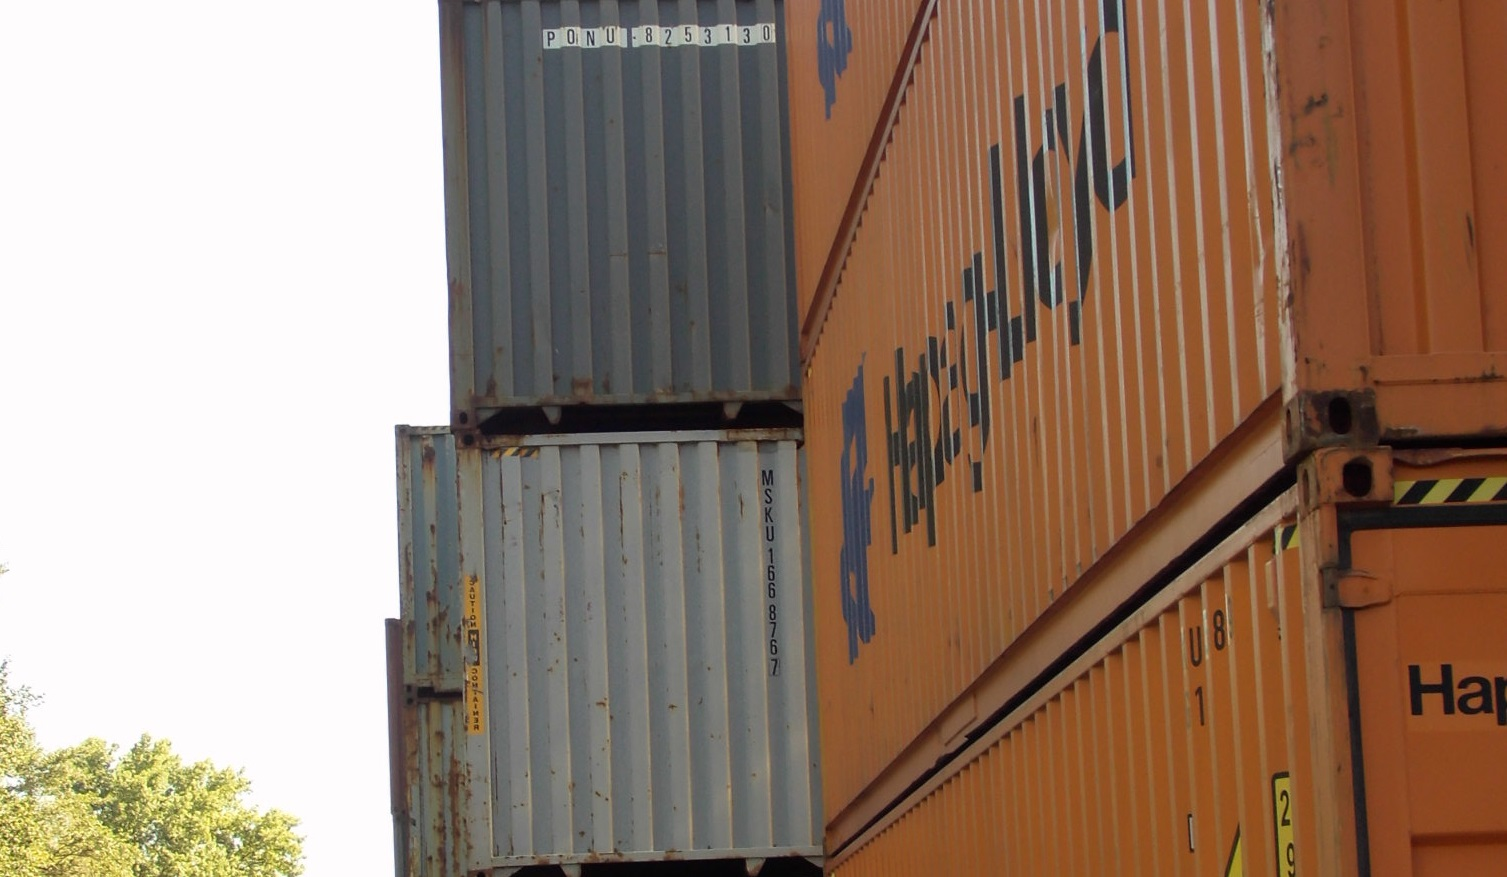container_no_door: (468, 436, 799, 856), (449, 3, 779, 423)
